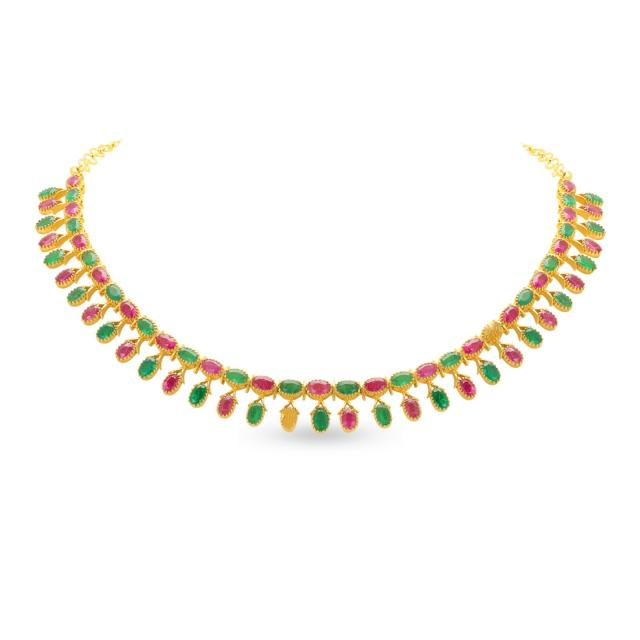missing gem: (485, 323, 503, 342), (282, 408, 296, 430)
